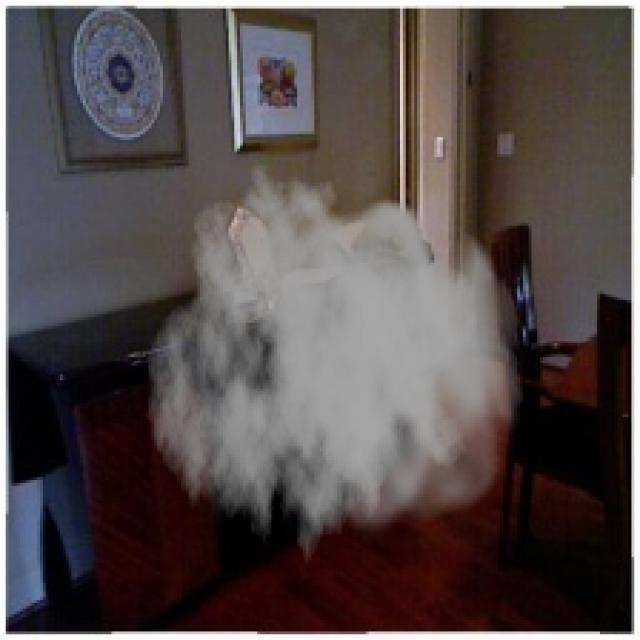smoke: (146, 163, 523, 583)
